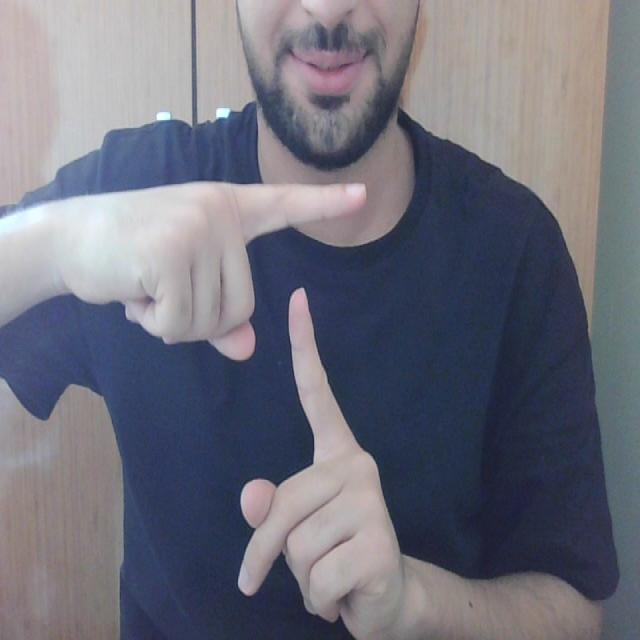Tesekkurler: (215, 165, 378, 462)
